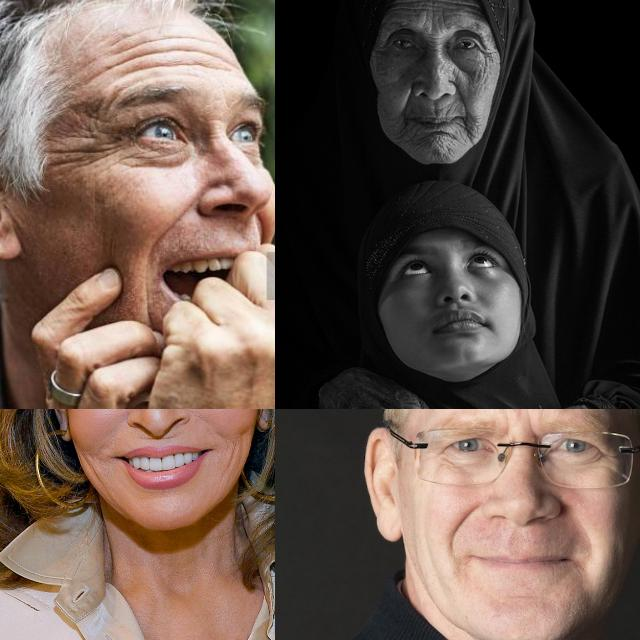chin: (422, 126, 458, 140)
crows_feet: (95, 130, 132, 166), (598, 443, 620, 467), (480, 43, 496, 71)
forehead: (188, 32, 226, 80), (112, 36, 150, 78), (156, 34, 182, 68), (456, 0, 481, 16), (398, 0, 422, 12), (430, 0, 455, 9)
frown_line: (427, 30, 443, 56), (525, 412, 539, 440)
gummy_smile: (452, 500, 478, 542), (452, 81, 472, 109), (398, 85, 414, 112)
masseter: (79, 452, 109, 492), (227, 436, 247, 478)
sad_smile: (398, 114, 414, 144), (460, 117, 476, 141)
smoker_lines: (138, 432, 180, 446)
